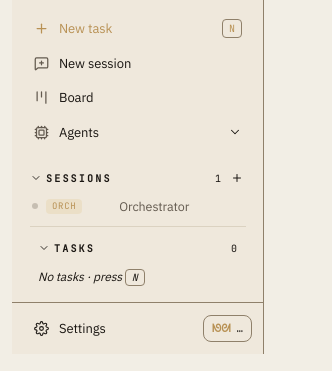
Test: Sidebar — change 5: Sessions section collapsible › collapses the session list when the Sessions eyebrow is clicked
Expected: the text "ORCH" is shown, x1=46 y1=199 x2=82 y2=214
Click the eyebrow to collapse
Click the button "Sessions 1" at (138, 173), box x1=12 y1=155 x2=264 y2=191
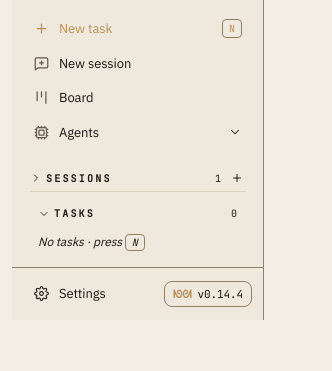
Now the button "ORCH" is gone
